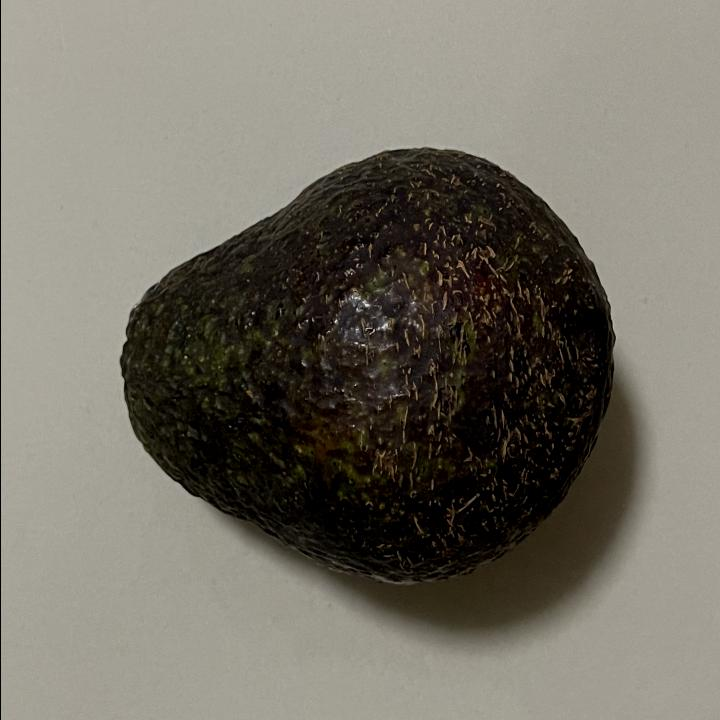Level1: (102, 122, 626, 604)
